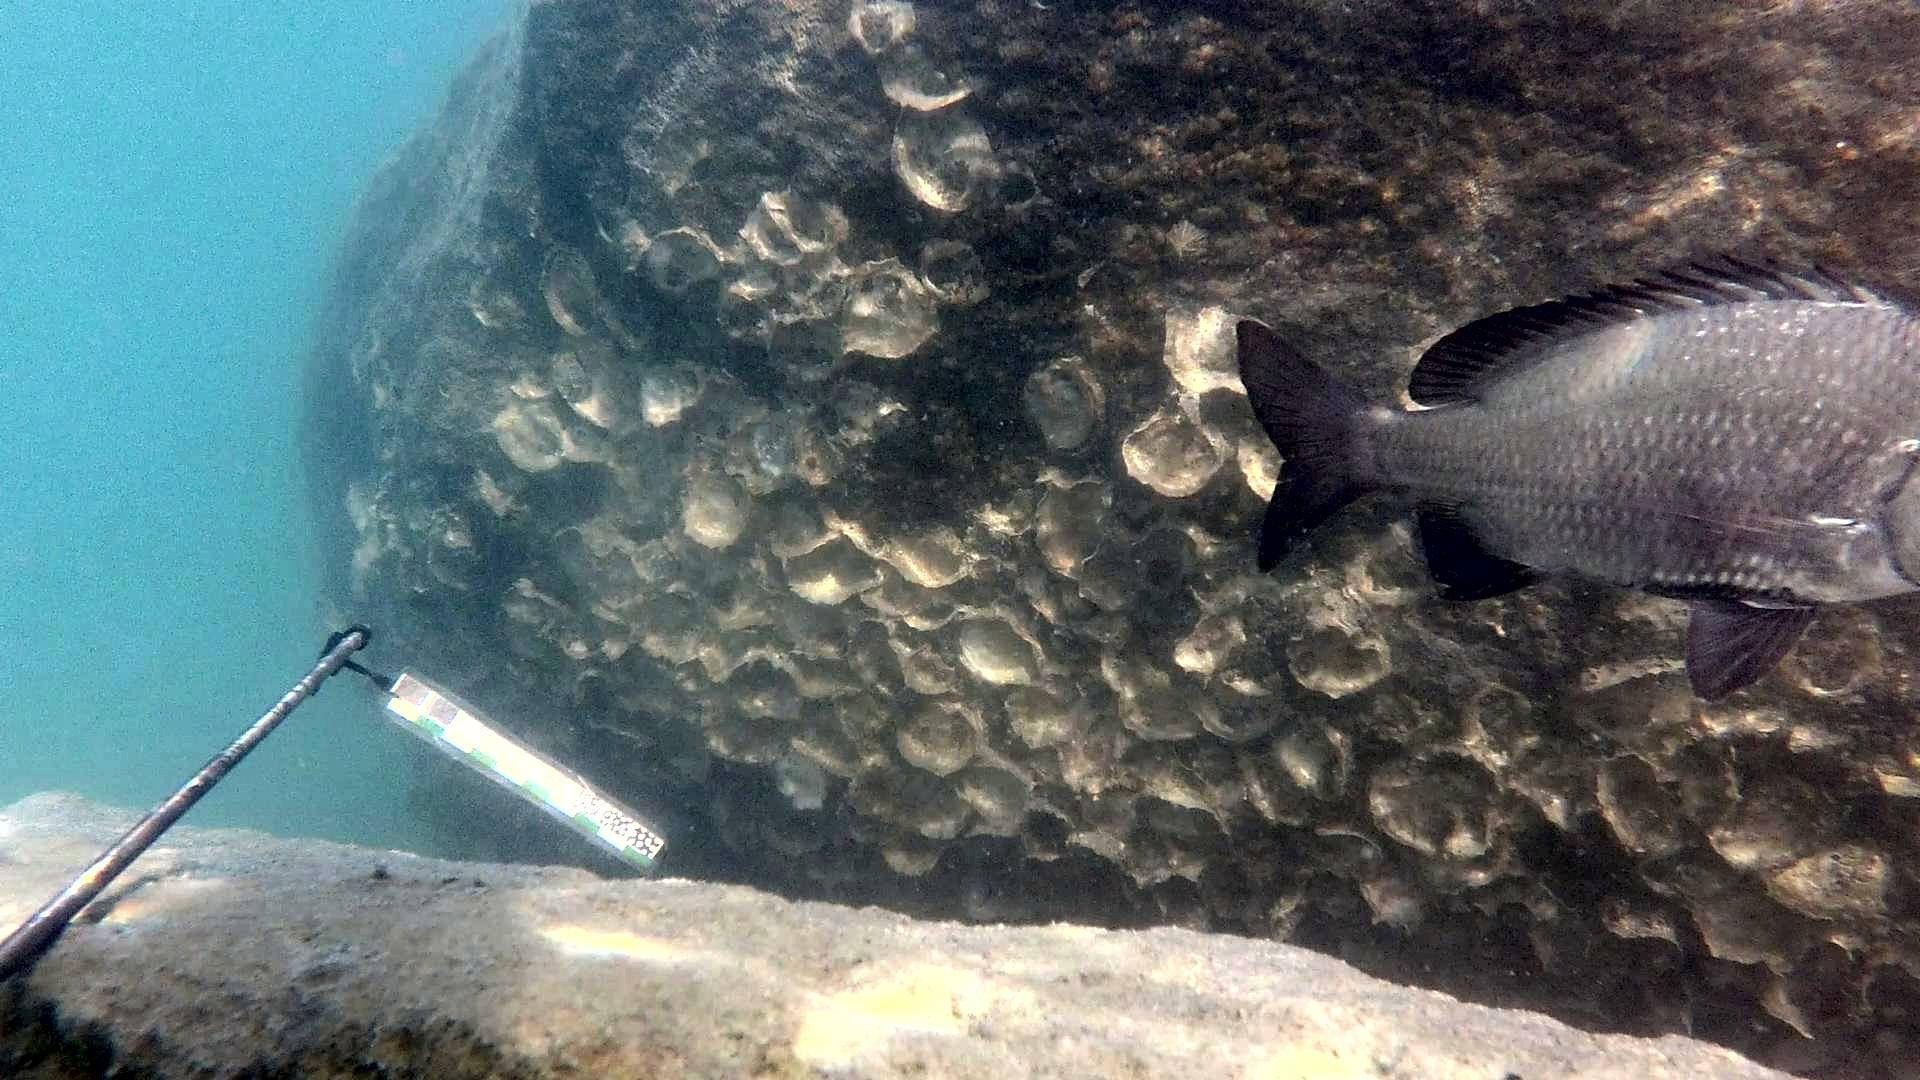acanthopagrus palmaris: (1229, 236, 1920, 713)
